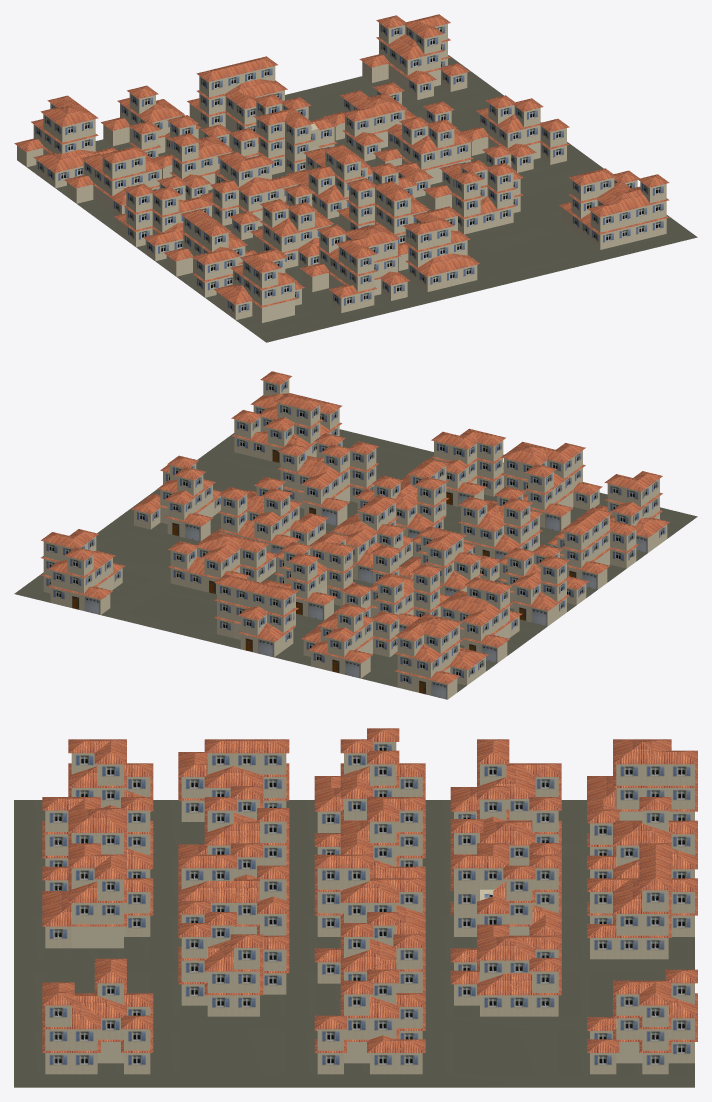
File: town.obj
The picture shows the model from 3 angles, top to bottom: view 1: azimuth 30°, elevation 25°; view 2: azimuth 150°, elevation 25°; view 3: azimuth 270°, elevation 25°; orthographic projection. The views are drawn at different scales.
Visible parts, largest first — view 1: Building; view 2: Building; view 3: Building.
Part boxes in pixels (x1,y1,x2,y2): Building: (14, 14, 697, 342); Building: (14, 371, 697, 699); Building: (14, 728, 697, 1087).
Bounding box in the file's own units: 65.3 × 8.41 × 65.3.
Materials: 2 (2 with a texture image).
